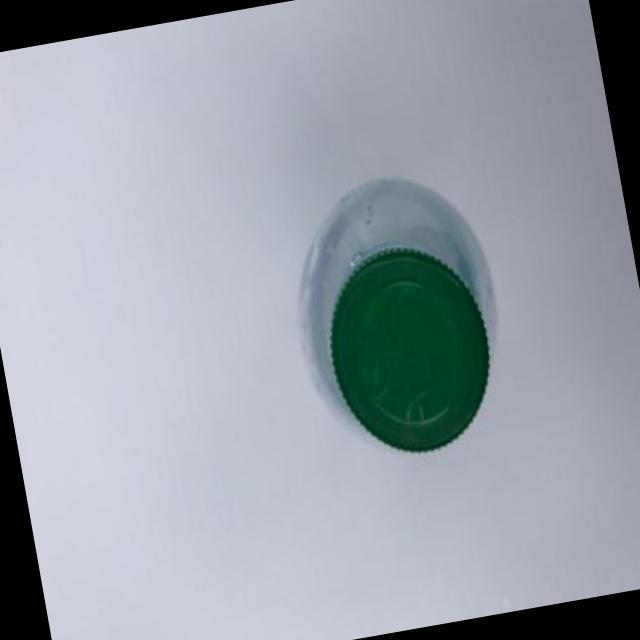Recycle: (277, 158, 522, 470)
